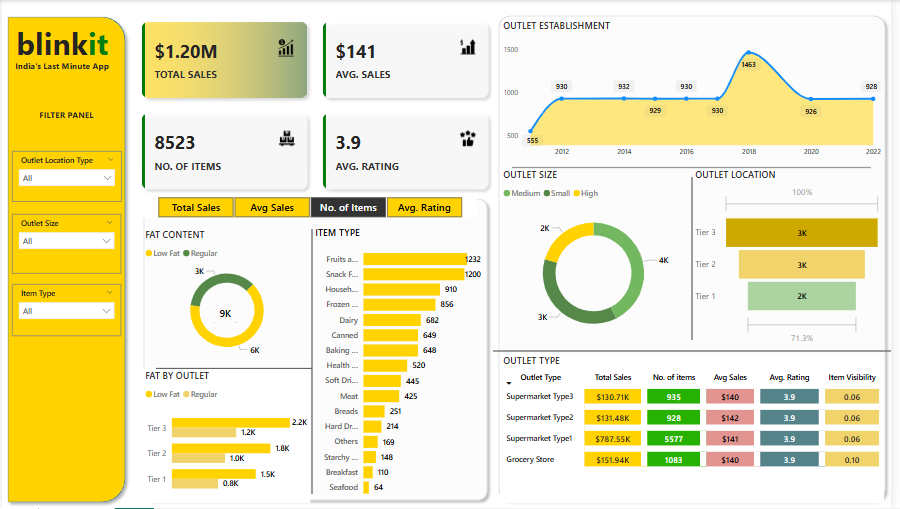

The dashboard page shown, as its layout file describes it:
{"tool":"powerbi","page":{"name":"Page 1","canvas":[1400,800],"ordinal":0},"visuals":[{"type":"shape","box":[0,17.3,203.1,782.7],"z":0},{"type":"textbox","box":[17.3,29.9,170.1,75.6],"z":1000},{"type":"textbox","box":[15.7,89.8,171.7,53.5],"z":2000},{"type":"cardVisual","fields":{"Data":["BlinkIT Grocery Data.Total Sales","BlinkIT Grocery Data.Avg Sales","BlinkIT Grocery Data.No. of items","BlinkIT Grocery Data.Avg. rating"]},"box":[203.1,17.3,581.1,299.2],"z":3000},{"type":"shape","box":[214.2,303.9,559.1,492.9],"z":4000},{"type":"donutChart","title":"FAT CONTENT","fields":{"Y":["BlinkIT Grocery Data.No. of items"],"Category":["BlinkIT Grocery Data.Item Fat Content"]},"box":[220.5,359.1,267.7,211],"z":5000},{"type":"slicer","fields":{"Values":["Metrics.Metrics"]},"box":[220.5,303.9,527.6,39.4],"z":6000},{"type":"cardVisual","fields":{"Data":["BlinkIT Grocery Data.No. of items"]},"box":[300.8,464.6,102.4,48.8],"z":7000},{"type":"slicer","title":"FAT BY OUTLET","fields":{"Values":["BlinkIT Grocery Data.Outlet Location Type"]},"box":[15.7,237.8,173.2,80.3],"z":8000},{"type":"shape","box":[469.3,360.6,37.8,417.3],"z":9000},{"type":"barChart","title":"ITEM TYPE","fields":{"Y":["BlinkIT Grocery Data.No. of items"],"Category":["BlinkIT Grocery Data.Item Type"]},"box":[488.2,355.9,270.9,436.2],"z":10000},{"type":"shape","box":[773.2,15.7,626.8,781.1],"z":11000},{"type":"shape","box":[803.1,248.8,565.4,29.9],"z":12000},{"type":"lineChart","title":"OUTLET ESTABLISHMENT","fields":{"Y":["BlinkIT Grocery Data.No. of items"],"Category":["BlinkIT Grocery Data.Outlet Establishment Year"]},"box":[784.3,29.9,604.7,226.8],"z":13000},{"type":"shape","box":[243.1,573.8,245.7,14.2],"z":14000},{"type":"donutChart","title":"OUTLET SIZE","fields":{"Y":["BlinkIT Grocery Data.No. of items"],"Category":["BlinkIT Grocery Data.Outlet Size"]},"box":[784.3,264.6,294.5,283.5],"z":15000},{"type":"shape","box":[1067.7,278.7,37.8,256.7],"z":16000},{"type":"funnel","title":"OUTLET LOCATION","fields":{"Y":["BlinkIT Grocery Data.No. of items"],"Category":["BlinkIT Grocery Data.Outlet Location Type"]},"box":[1086.6,264.6,302.4,283.5],"z":17000},{"type":"shape","box":[773.2,548,626.8,9.4],"z":18000},{"type":"pivotTable","title":"OUTLET TYPE","fields":{"Rows":["BlinkIT Grocery Data.Outlet Type"],"Values":["BlinkIT Grocery Data.Total Sales","BlinkIT Grocery Data.No. of items","BlinkIT Grocery Data.Avg Sales","BlinkIT Grocery Data.Avg. rating","Avg(BlinkIT Grocery Data.Item Visibility)"]},"box":[784.3,557.5,604.7,234.6],"z":19000},{"type":"slicer","title":"FAT BY OUTLET","fields":{"Values":["BlinkIT Grocery Data.Outlet Size"]},"box":[15.7,337,171.7,94.5],"z":20000},{"type":"slicer","title":"FAT BY OUTLET","fields":{"Values":["BlinkIT Grocery Data.Item Type"]},"box":[15.7,447.2,171.7,81.9],"z":21000},{"type":"clusteredBarChart","title":"FAT BY OUTLET","fields":{"Y":["BlinkIT Grocery Data.No. of items"],"Category":["BlinkIT Grocery Data.Outlet Location Type"],"Series":["BlinkIT Grocery Data.Item Fat Content"]},"box":[220.5,581.1,264.6,211],"z":22000},{"type":"textbox","box":[15.7,166.9,171.7,59.8],"z":23000}]}

Visuals, with their boxes in screenshot pixels (x1, y1, x2, y2), scaled from the page's 1400x800 canvas onto the 900x509 screenshot:
shape: detection(0, 11, 131, 508)
textbox: detection(11, 19, 120, 67)
textbox: detection(10, 57, 120, 91)
cardVisual - BlinkIT Grocery Data.Total Sales x BlinkIT Grocery Data.Avg Sales: detection(131, 11, 504, 201)
shape: detection(138, 193, 497, 507)
"FAT CONTENT" donutChart: detection(142, 228, 314, 363)
slicer - Metrics.Metrics: detection(142, 193, 481, 218)
cardVisual - BlinkIT Grocery Data.No. of items: detection(193, 296, 259, 327)
"FAT BY OUTLET" slicer: detection(10, 151, 121, 202)
shape: detection(302, 229, 326, 495)
"ITEM TYPE" barChart: detection(314, 226, 488, 504)
shape: detection(497, 10, 899, 507)
shape: detection(516, 158, 880, 177)
"OUTLET ESTABLISHMENT" lineChart: detection(504, 19, 893, 163)
shape: detection(156, 365, 314, 374)
"OUTLET SIZE" donutChart: detection(504, 168, 694, 349)
shape: detection(686, 177, 711, 341)
"OUTLET LOCATION" funnel: detection(699, 168, 893, 349)
shape: detection(497, 349, 899, 355)
"OUTLET TYPE" pivotTable: detection(504, 355, 893, 504)
"FAT BY OUTLET" slicer: detection(10, 214, 120, 275)
"FAT BY OUTLET" slicer: detection(10, 285, 120, 337)
"FAT BY OUTLET" clusteredBarChart: detection(142, 370, 312, 504)
textbox: detection(10, 106, 120, 144)
